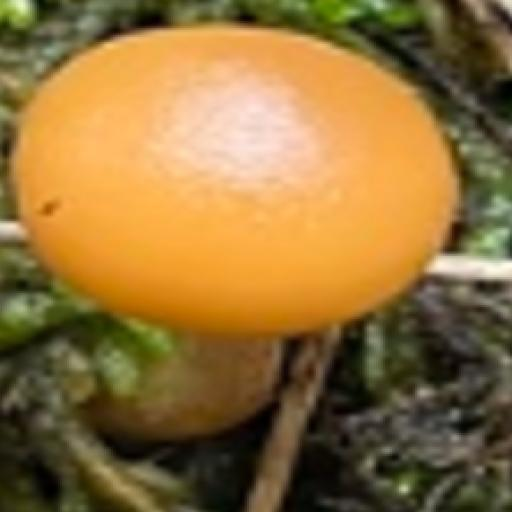mushroom: (10, 26, 456, 408)
